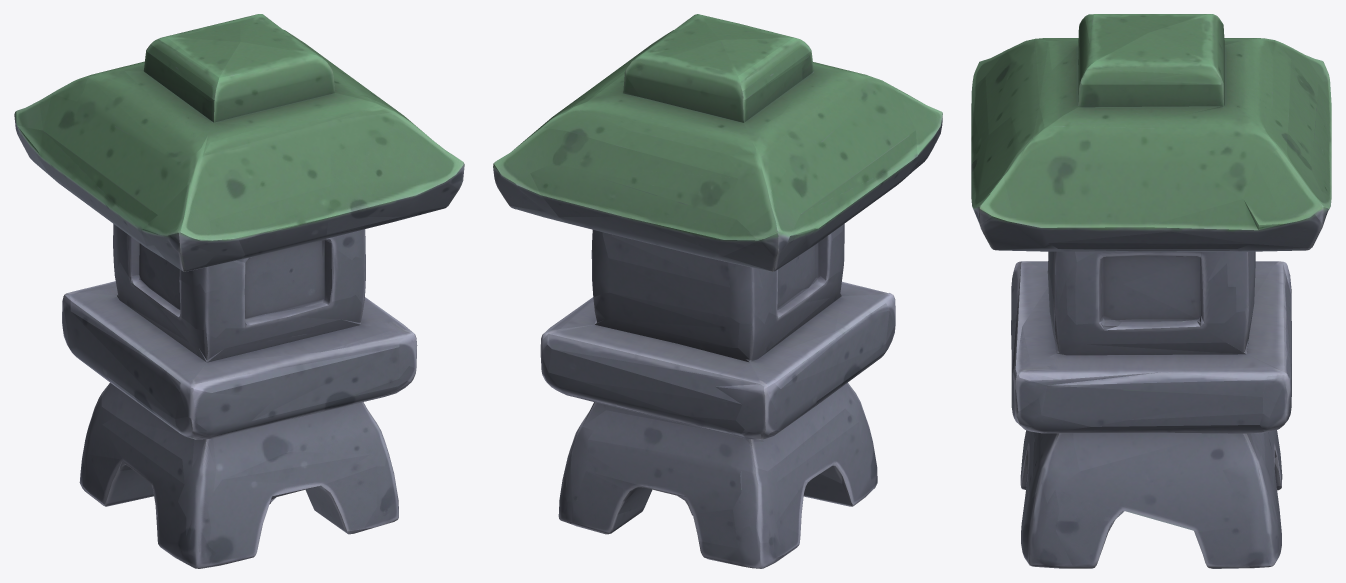
The model's file is lantern.glb.
The picture shows the model from 3 angles, left to right: view 1: azimuth 30°, elevation 25°; view 2: azimuth 150°, elevation 25°; view 3: azimuth 270°, elevation 25°; orthographic projection. The views are drawn at different scales.
Bounding box in the file's own units: 1.28 × 1.9 × 1.28.
1 material, 1 textured.
